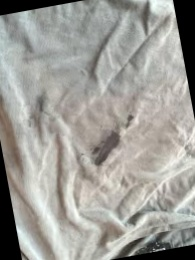oil: (82, 108, 147, 175)
